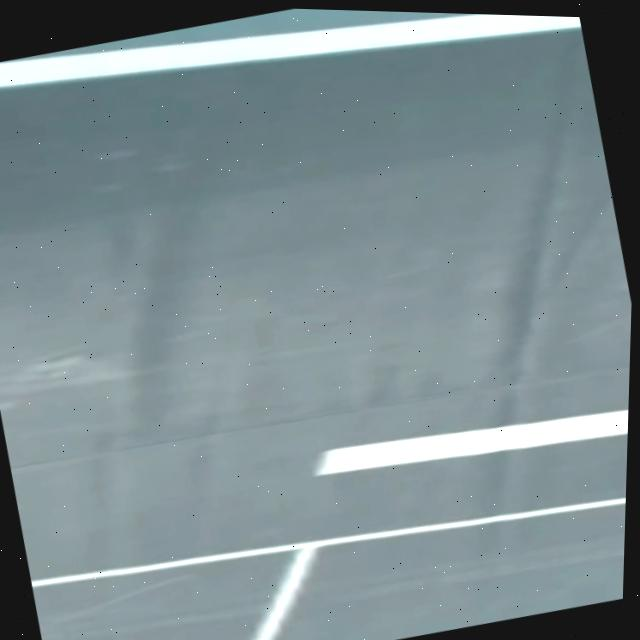center: (316, 407, 628, 473)
left: (0, 14, 581, 85)
